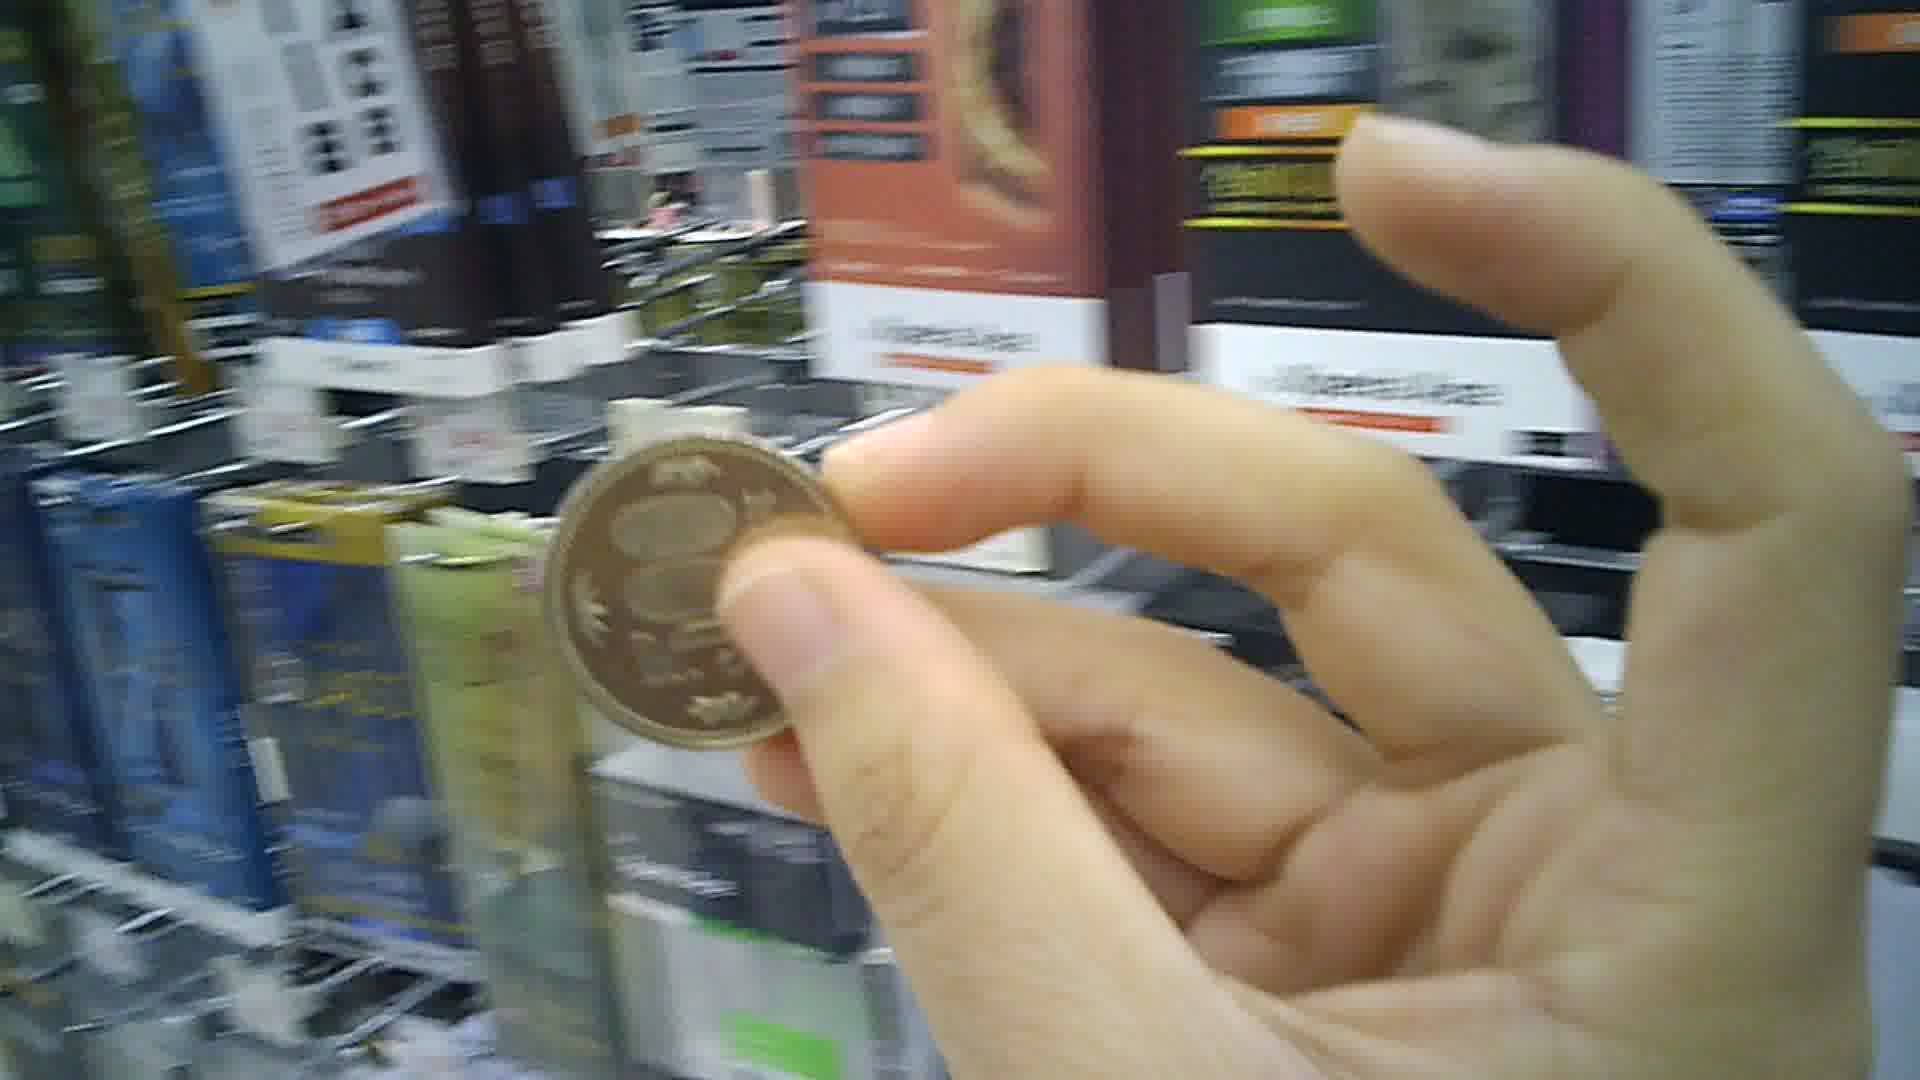500 Yen: (524, 429, 855, 764)
